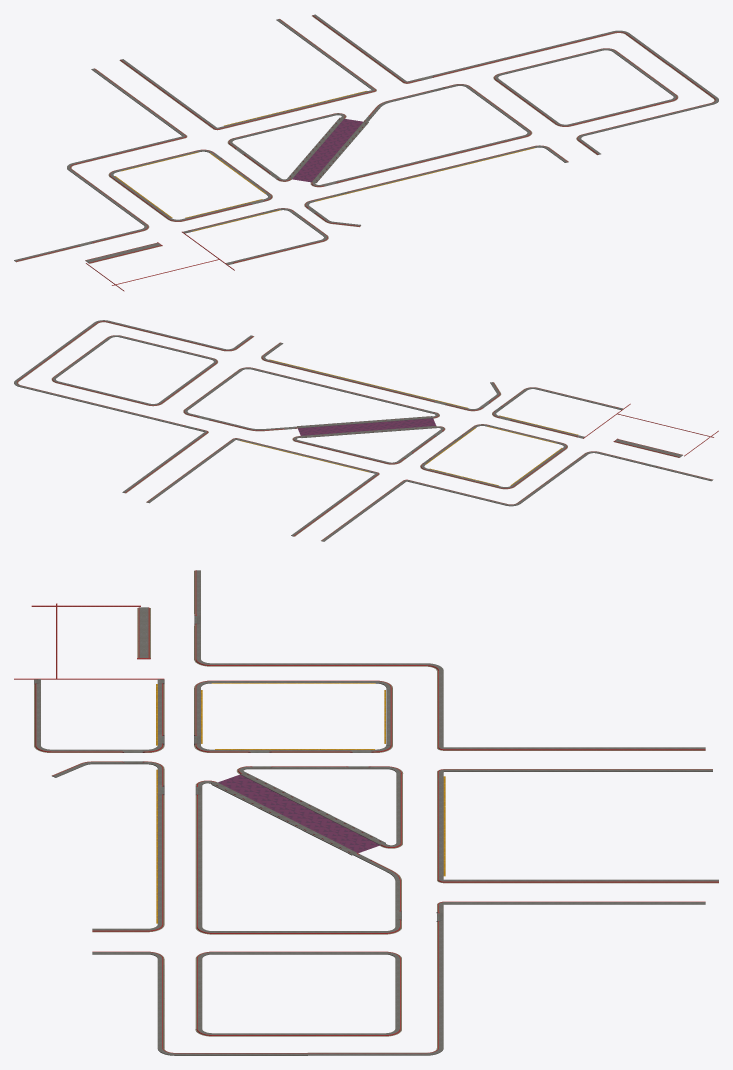
Rendered from SideWalks.gltf.
The picture shows the model from 3 angles, top to bottom: view 1: azimuth 30°, elevation 25°; view 2: azimuth 150°, elevation 25°; view 3: azimuth 270°, elevation 25°; orthographic projection. The views are drawn at different scales.
Bounding box in the file's own units: 252 × 0.2069 × 155.
